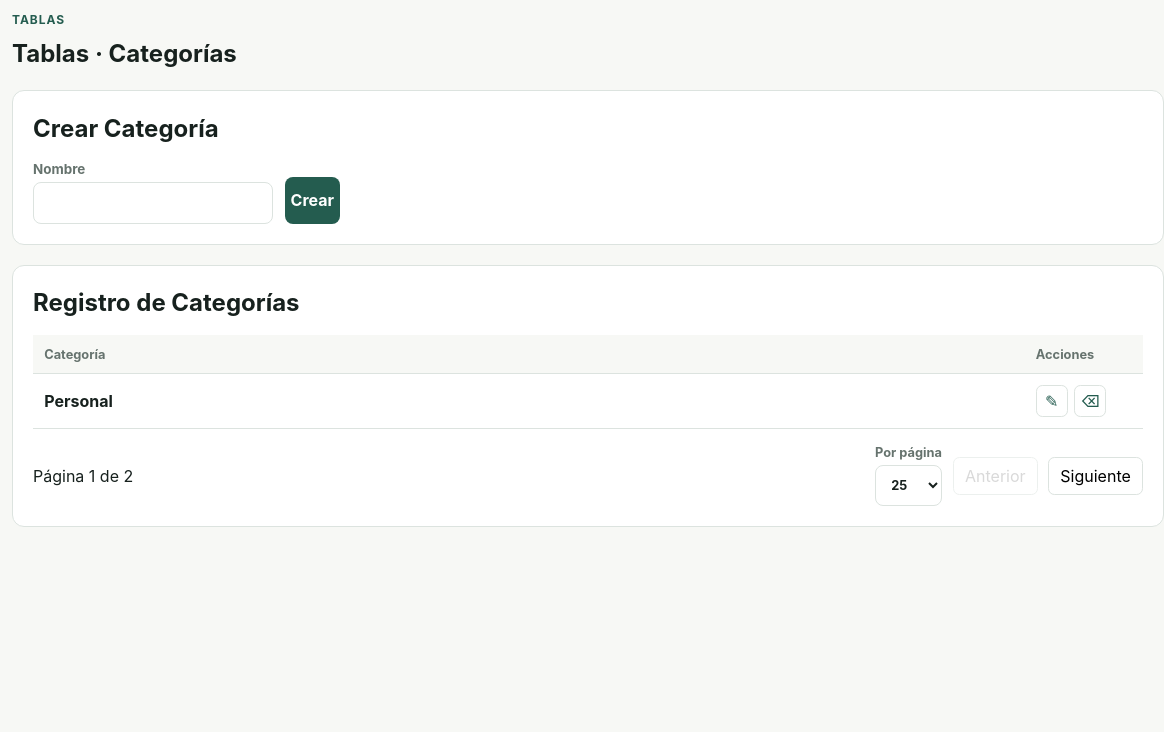
Test case: CategoriesTablePage › handles used-category 409, clears editing and refreshes dependent caches
The image size is (1164, 732).
What coordinates should you click on to do the following:
click the button named "Editar Categoría Personal"
I would click on:
 (1052, 401)
Its box is left=1036, top=385, right=1068, bottom=417.
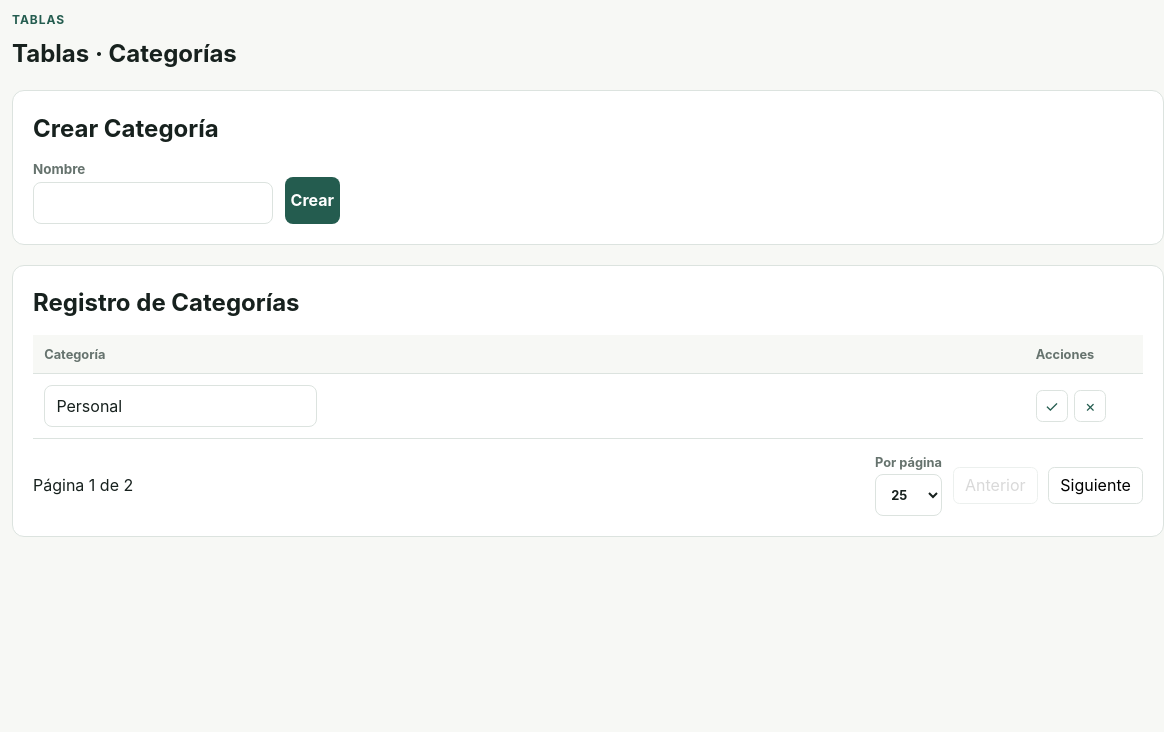
What coordinates should you click on to do the following:
click the button named "Guardar Categoría Personal"
I would click on:
 (1052, 406)
Its box is left=1036, top=390, right=1068, bottom=422.
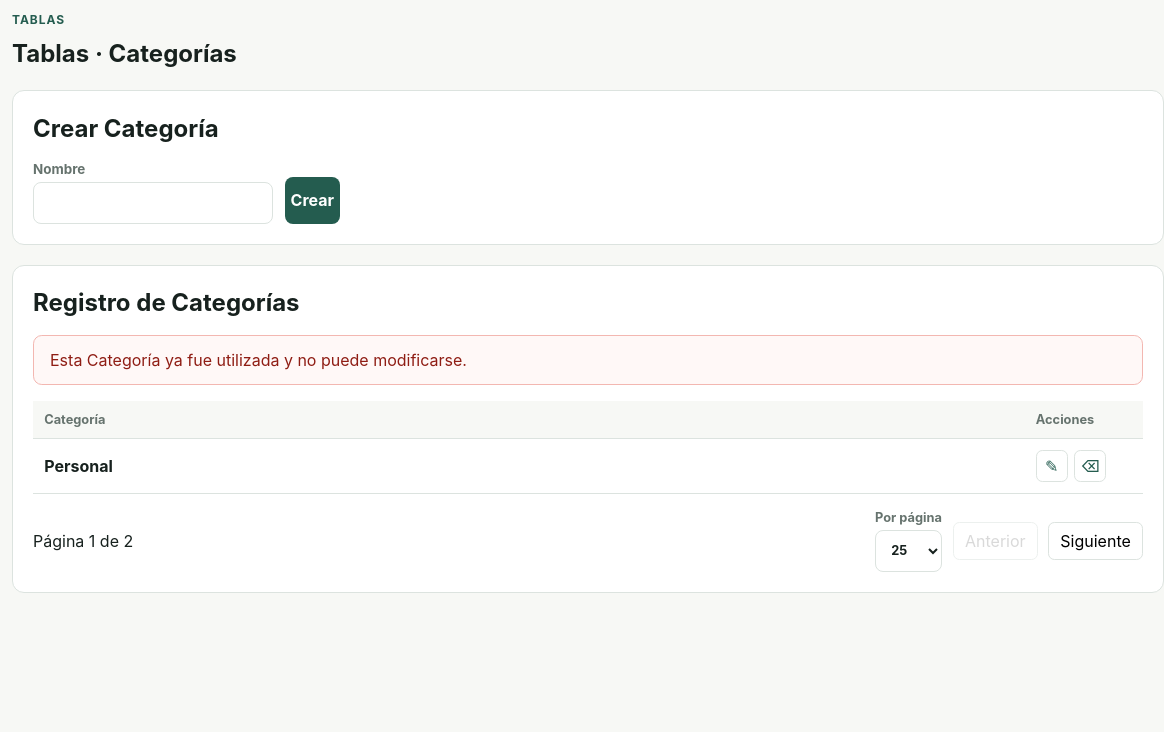
expect the field labelled "Nombre de Categoría Personal" is not shown: met
expect the message shows "ya fue utilizada": met, box left=50, top=350, right=467, bottom=370
